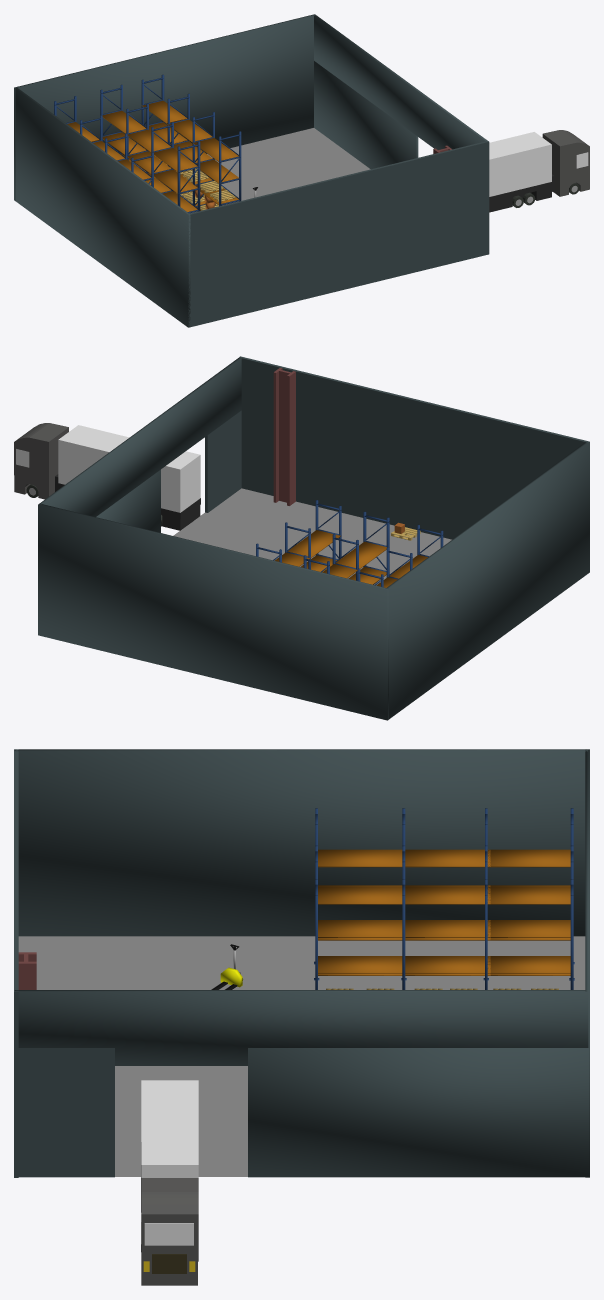
File: Entrepot logistique.glb
3 renders of one model, top to bottom at view 1: azimuth 30°, elevation 25°; view 2: azimuth 150°, elevation 25°; view 3: azimuth 270°, elevation 25°, orthographic. The views are drawn at different scales.
Parts seen in each view (by area): view 1: Cube.046, Cube.047, Cube.045, Cube.048, Plane, Cube.050, Cube.034, Cube.032, Cube.208, Cube.161, Cube.162, Cube.191 (+6 smaller); view 2: Cube.047, Cube.046, Cube.045, Cube.048, Plane, Cube.034, Cube.049, Cube.032, Cube.050, Cube.023, Cube.021, Cube.022 (+3 smaller); view 3: Cube.045, Cube.050, Cube.048, Plane, Cube.049, Cube.034, Cube.032, Cube.046, Cube.102, Cube.059, Cube.076, Cube.161 (+11 smaller).
Part boxes in pixels (x1,y1,x2,y2): Cube.046: (188,141,489,327); Cube.047: (14,14,315,200); Cube.045: (15,87,190,327); Cube.048: (313,15,487,149); Plane: (189,128,370,213); Cube.050: (314,61,418,169); Cube.034: (489,132,551,196); Cube.032: (542,130,589,196); Cube.208: (102,110,146,133); Cube.161: (153,148,197,171); Cube.162: (154,169,197,193); Cube.191: (127,129,170,152); Cube.047: (38,503,388,720); Cube.046: (239,356,589,539); Cube.045: (386,441,589,719); Cube.048: (40,356,241,516); Plane: (173,488,451,585); Cube.034: (58,425,200,512); Cube.049: (205,410,241,512); Cube.032: (14,423,68,499); Cube.050: (96,469,160,532); Cube.023: (287,371,295,505); Cube.021: (279,370,292,502); Cube.022: (273,368,282,502); Cube.045: (14,749,587,936); Cube.050: (248,1048,589,1177); Cube.048: (14,990,588,1065); Plane: (18,936,585,1176); Cube.049: (18,1048,114,1177); Cube.034: (141,1080,198,1177); Cube.032: (141,1178,198,1285); Cube.046: (14,749,18,1177); Cube.102: (318,849,402,867); Cube.059: (405,849,490,867); Cube.076: (488,849,570,867); Cube.161: (318,887,402,904).
Size of what is drawn, in the model's own units: 29.28 by 7.17 by 20.08.
